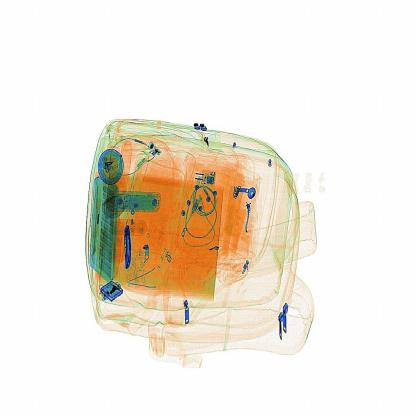knife: (118, 221, 141, 270)
